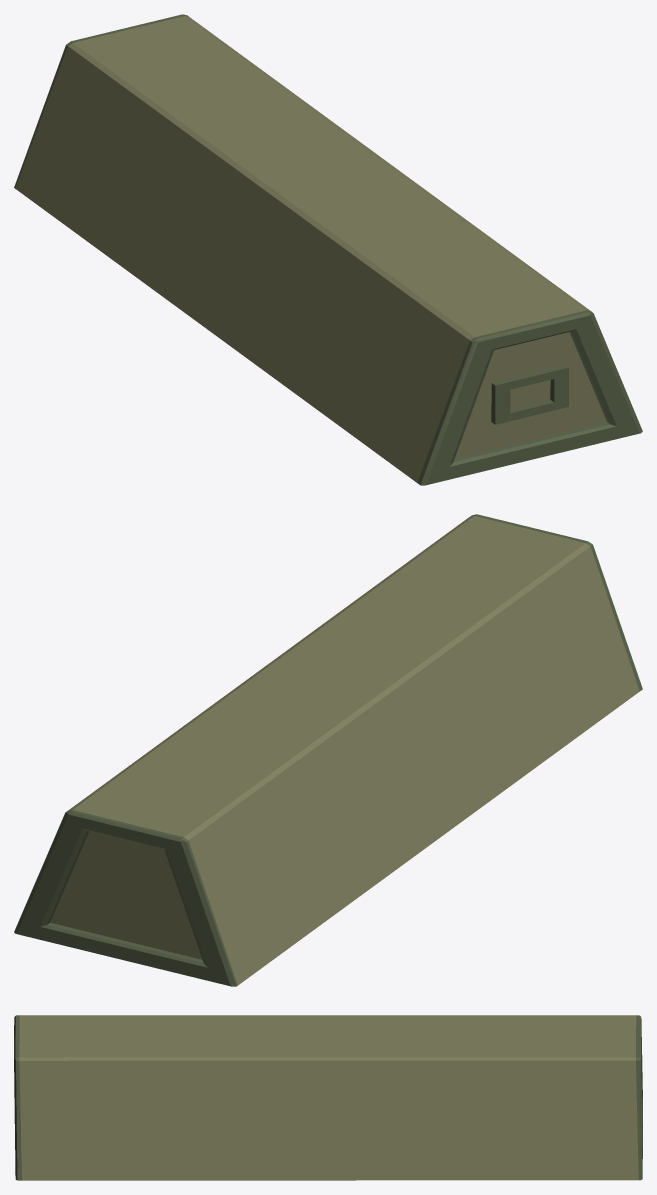
The model's file is homebig_roof1.fbx.
The picture shows the model from 3 angles, top to bottom: view 1: azimuth 30°, elevation 25°; view 2: azimuth 150°, elevation 25°; view 3: azimuth 270°, elevation 25°; orthographic projection. The views are drawn at different scales.
Parts seen in each view (by area): view 1: homebig_roof1m1; view 2: homebig_roof1m1; view 3: homebig_roof1m1.
Part boxes in pixels (x1,y1,x2,y2): homebig_roof1m1: [14, 14, 642, 485]; homebig_roof1m1: [14, 514, 642, 986]; homebig_roof1m1: [14, 1015, 642, 1180].
Size of the model in its own units: 2.73 by 1.57 by 8.7.
